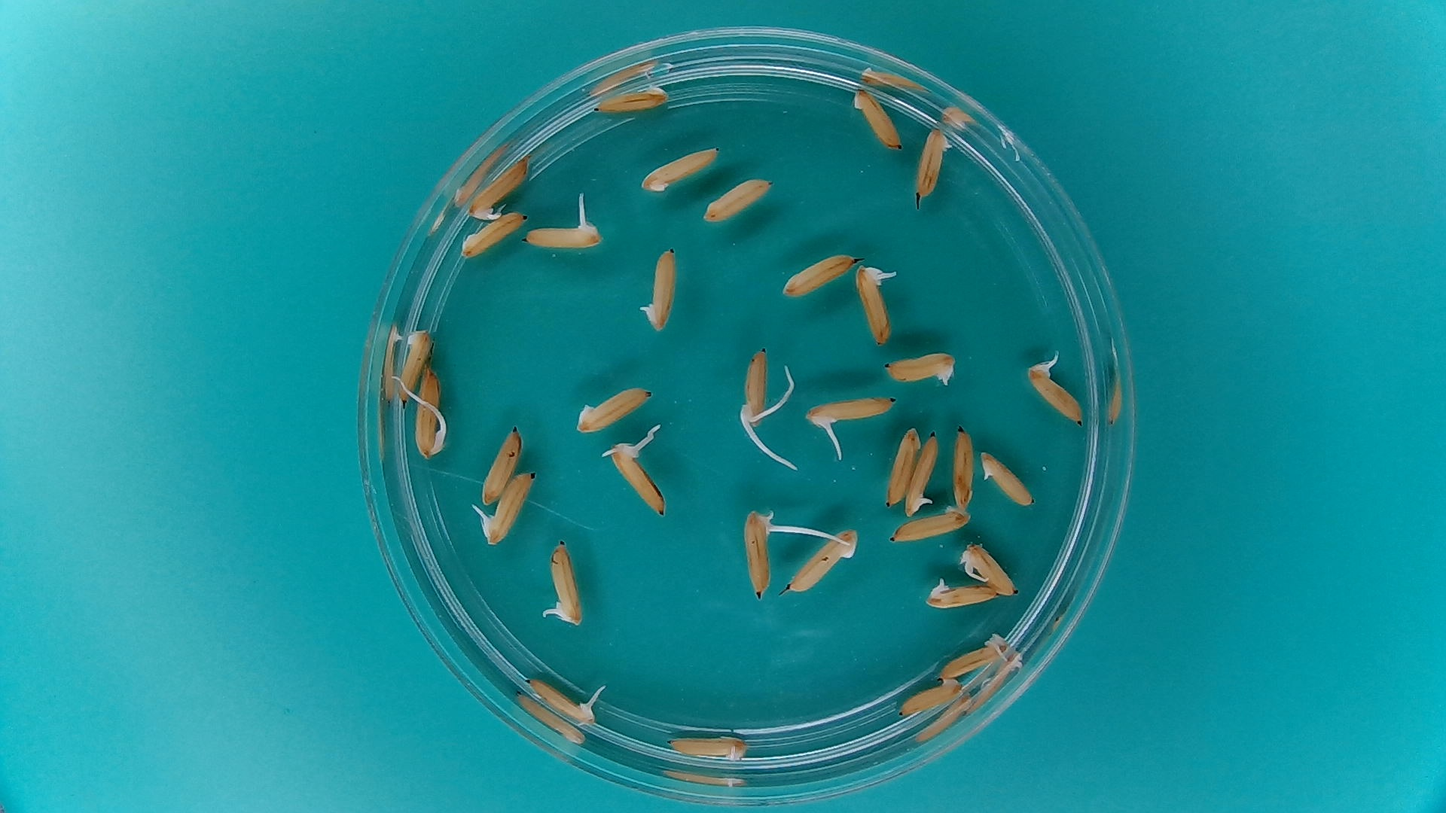no: (780, 525, 860, 596), (572, 382, 654, 435), (635, 242, 682, 333), (637, 143, 721, 193), (777, 249, 858, 299), (477, 423, 523, 510), (700, 174, 776, 224), (850, 84, 905, 151), (977, 448, 1036, 510), (459, 208, 529, 260), (911, 124, 955, 204), (883, 423, 920, 510), (880, 348, 960, 388), (664, 729, 752, 765), (895, 675, 966, 719), (947, 424, 980, 511), (395, 324, 432, 400), (922, 576, 1000, 611), (592, 84, 673, 114)
yes: (470, 467, 538, 547), (468, 150, 535, 222), (602, 443, 666, 517), (1023, 358, 1088, 427), (541, 535, 587, 630), (740, 504, 785, 601), (740, 343, 783, 435), (526, 674, 603, 724), (853, 257, 895, 348), (804, 391, 898, 431), (957, 538, 1019, 598), (888, 503, 974, 544), (902, 428, 941, 516), (936, 633, 1006, 682), (413, 360, 446, 462), (522, 215, 601, 251)
